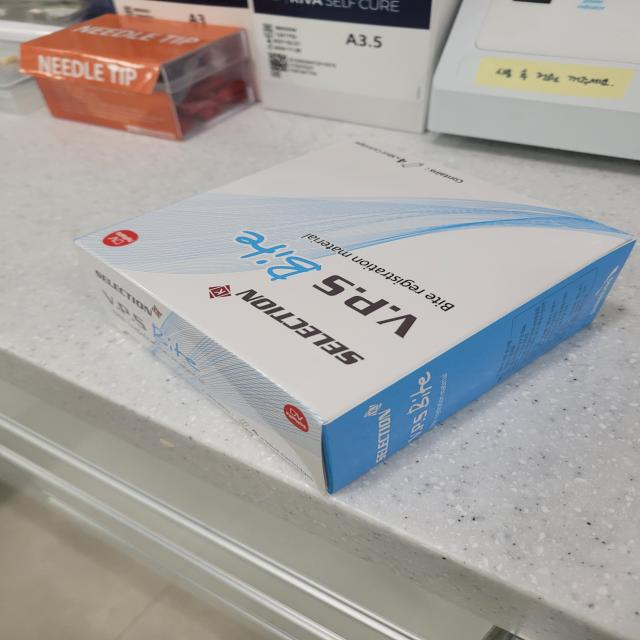impression: (71, 128, 640, 506)
